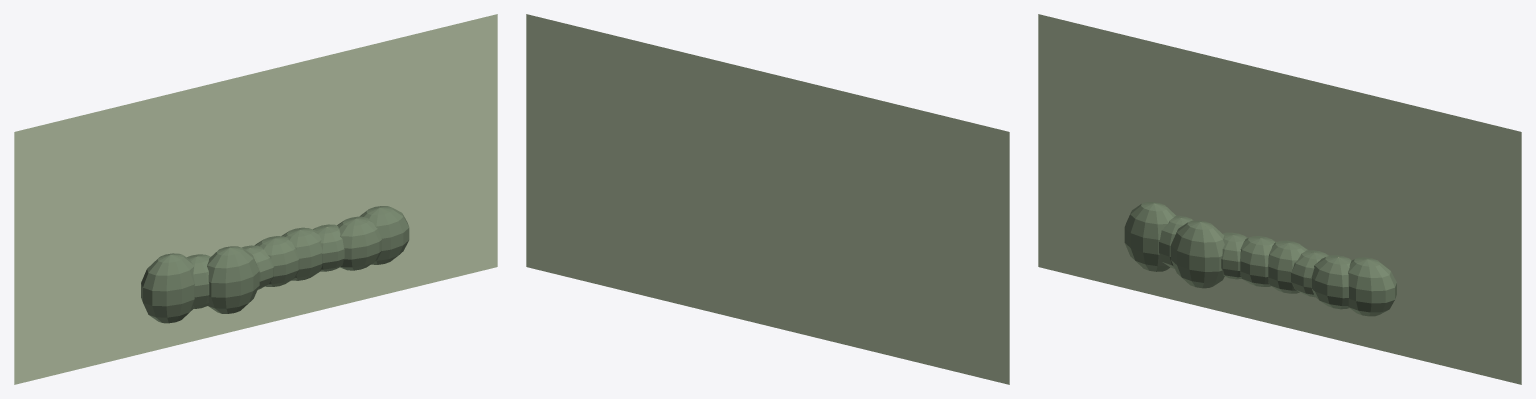
The model's file is Forest_DistantHillsAndSky.obj.
3 views of the same model, side by side, from view 1: azimuth 30°, elevation 25°; view 2: azimuth 150°, elevation 25°; view 3: azimuth 330°, elevation 25° (orthographic).
Parts seen in each view (by area): view 1: Forest_DistantHillsAndSky; view 2: Forest_DistantHillsAndSky; view 3: Forest_DistantHillsAndSky.
Part boxes in pixels (x1,y1,x2,y2): Forest_DistantHillsAndSky: (14, 14, 497, 384); Forest_DistantHillsAndSky: (526, 14, 1009, 384); Forest_DistantHillsAndSky: (1038, 14, 1521, 384).
Size of the model in its own units: 220 by 110 by 29.75.
Materials: 1 (1 with a texture image).
